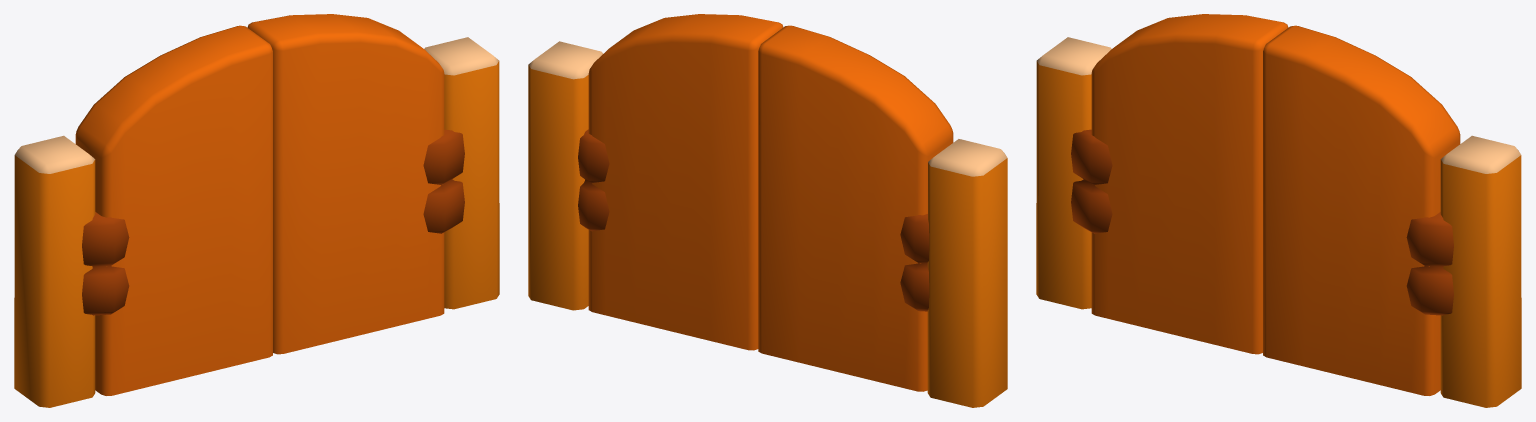
File: Farm_Fence_C_03.glb
3 views of the same model, side by side, from view 1: azimuth 30°, elevation 25°; view 2: azimuth 150°, elevation 25°; view 3: azimuth 330°, elevation 25° (orthographic).
Parts seen in each view (by area): view 1: Farm_Fence_C_03; view 2: Farm_Fence_C_03; view 3: Farm_Fence_C_03.
Boxes of the visible parts, x1,y1,x2,y2 form: Farm_Fence_C_03: [14, 14, 499, 407]; Farm_Fence_C_03: [528, 14, 1007, 407]; Farm_Fence_C_03: [1036, 14, 1521, 407].
Size of the model in its own units: 2 by 1.29 by 0.3099.
1 material, 1 textured.
